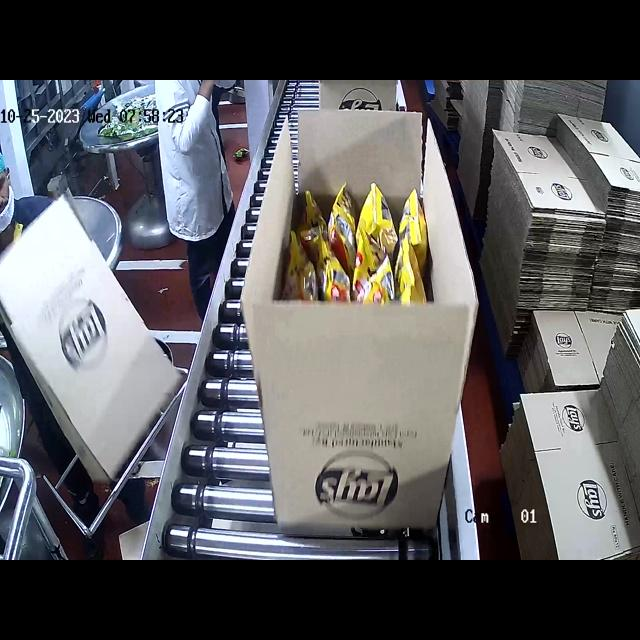salted: (298, 156, 431, 328)
